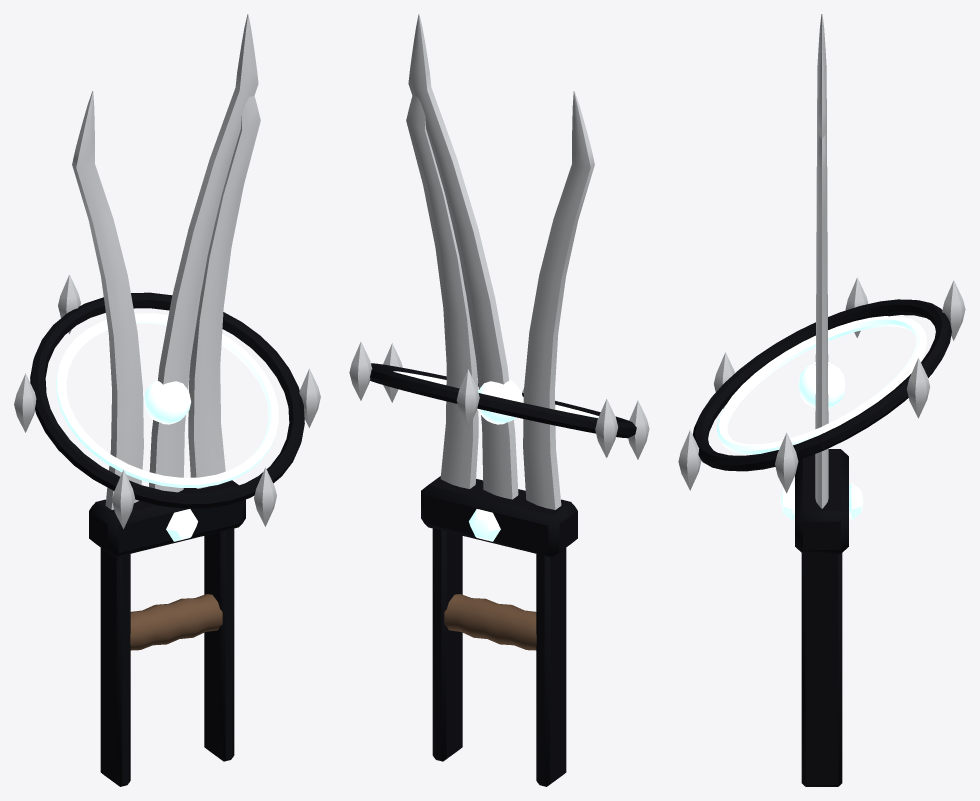
Rendered from esc_w_shadowblade_claw_7.glb.
3 views of the same model, side by side, from view 1: azimuth 30°, elevation 25°; view 2: azimuth 150°, elevation 25°; view 3: azimuth 270°, elevation 25° (orthographic).
Parts seen in each view (by area): view 1: esc_w_shadowblade_claw_7; view 2: esc_w_shadowblade_claw_7; view 3: esc_w_shadowblade_claw_7.
Part boxes in pixels (x1,y1,x2,y2): esc_w_shadowblade_claw_7: (14, 14, 320, 786); esc_w_shadowblade_claw_7: (349, 14, 649, 786); esc_w_shadowblade_claw_7: (678, 14, 965, 786).
Size of the model in its own units: 0.2338 by 0.609 by 0.2119.
